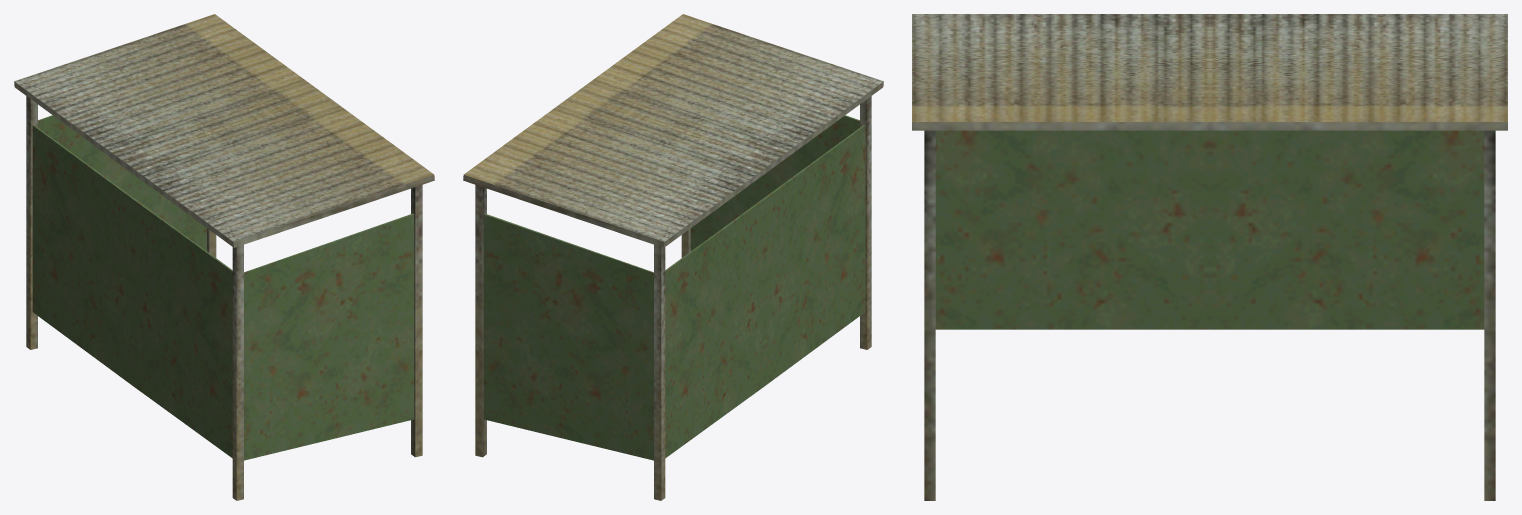
The model's file is Urban_BusstopAlt_Model.fbx.
3 views of the same model, side by side, from view 1: azimuth 30°, elevation 25°; view 2: azimuth 150°, elevation 25°; view 3: azimuth 270°, elevation 25° (orthographic). The views are drawn at different scales.
Parts seen in each view (by area): view 1: Urban_BusstopAlt_Mesh; view 2: Urban_BusstopAlt_Mesh; view 3: Urban_BusstopAlt_Mesh.
Part boxes in pixels (bbox=[...]): Urban_BusstopAlt_Mesh: bbox=[14, 14, 434, 500]; Urban_BusstopAlt_Mesh: bbox=[463, 14, 883, 500]; Urban_BusstopAlt_Mesh: bbox=[912, 14, 1507, 500].
Bounding box in the file's own units: 2.26 × 3.03 × 4.26.
